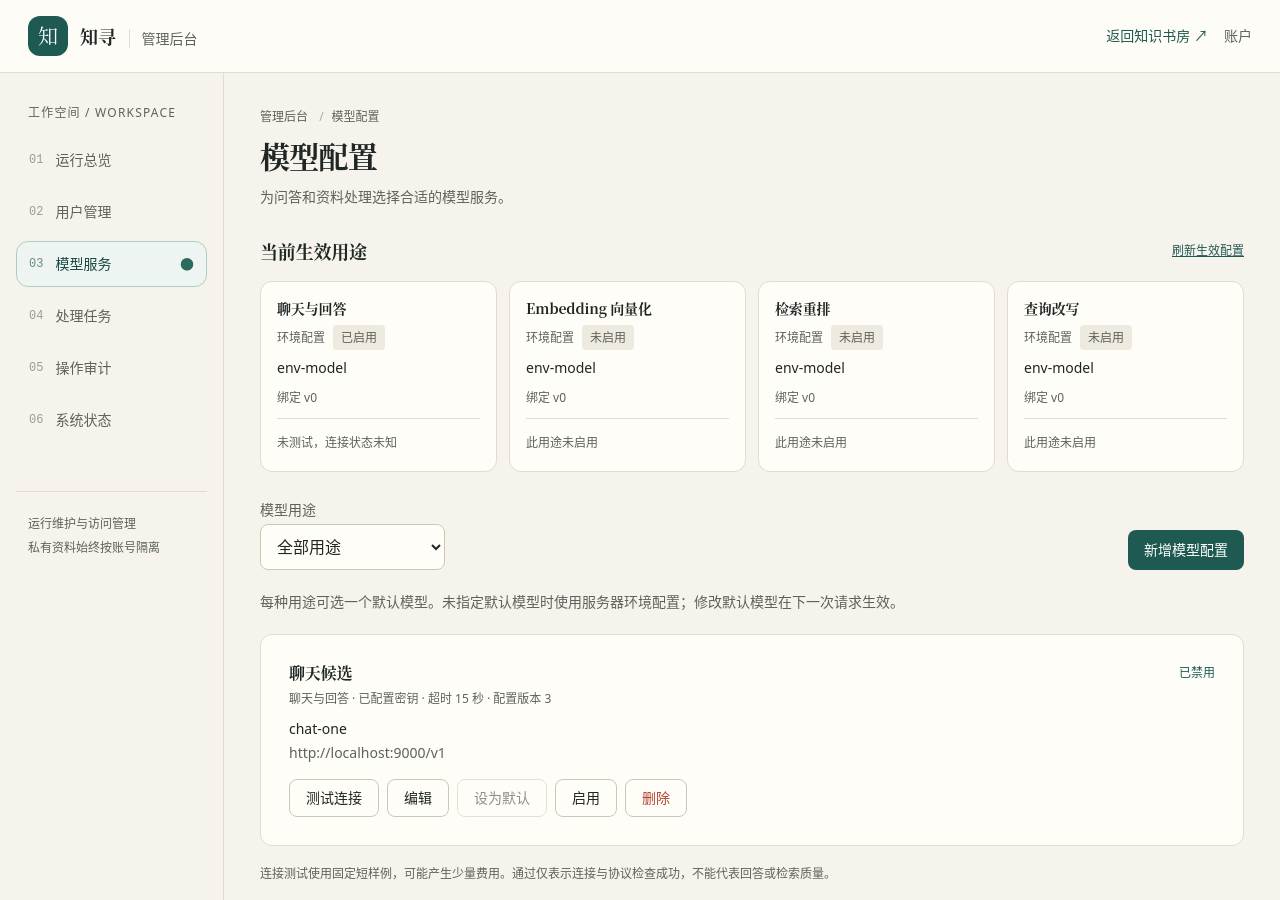
Test: 测试结果过期与版本冲突
Click the button with test id "admin-model-test" at (334, 798), box [289,779,379,817]
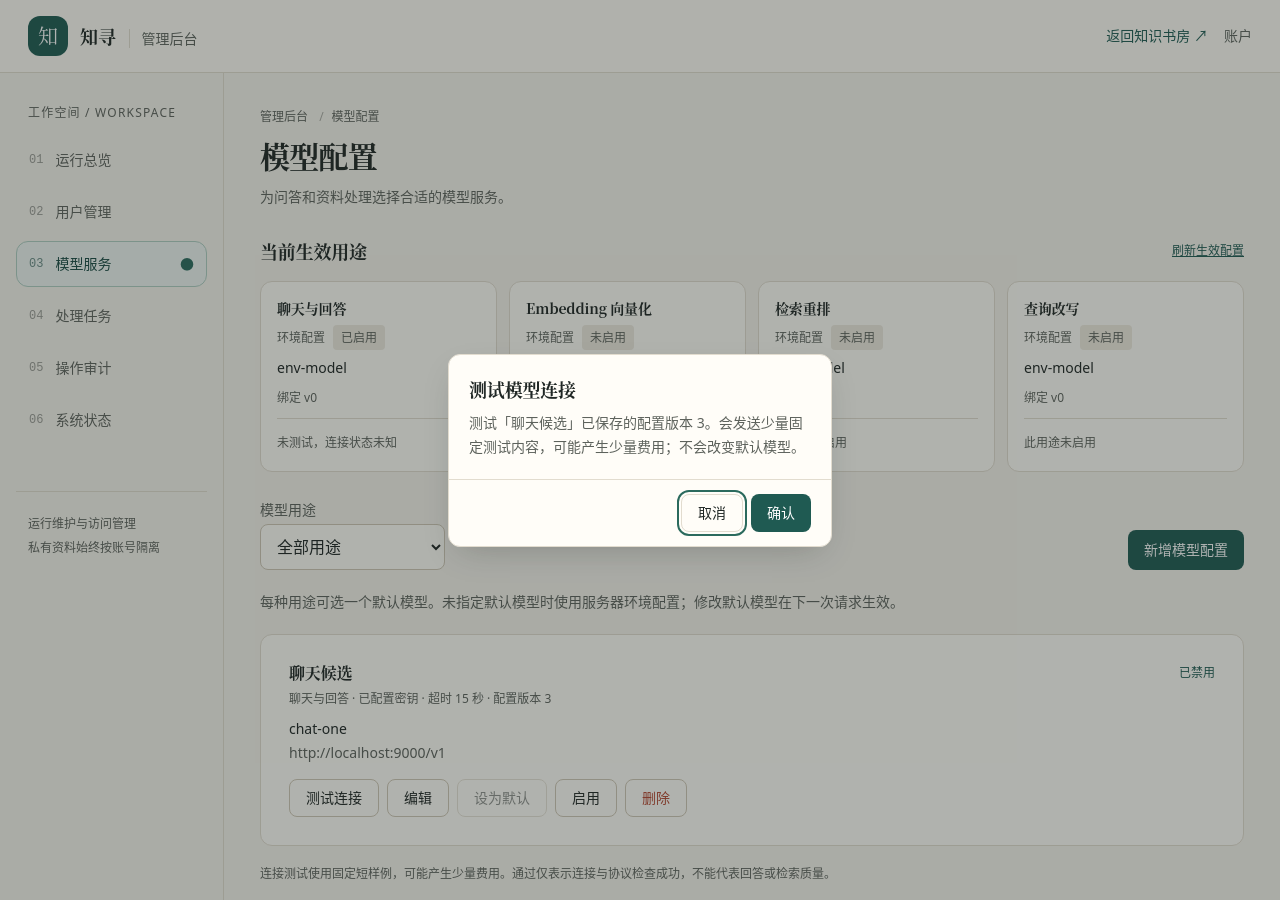
Click the button with test id "confirm-dialog-confirm-btn" at (781, 512), box [751,494,811,532]
(page scrolled)
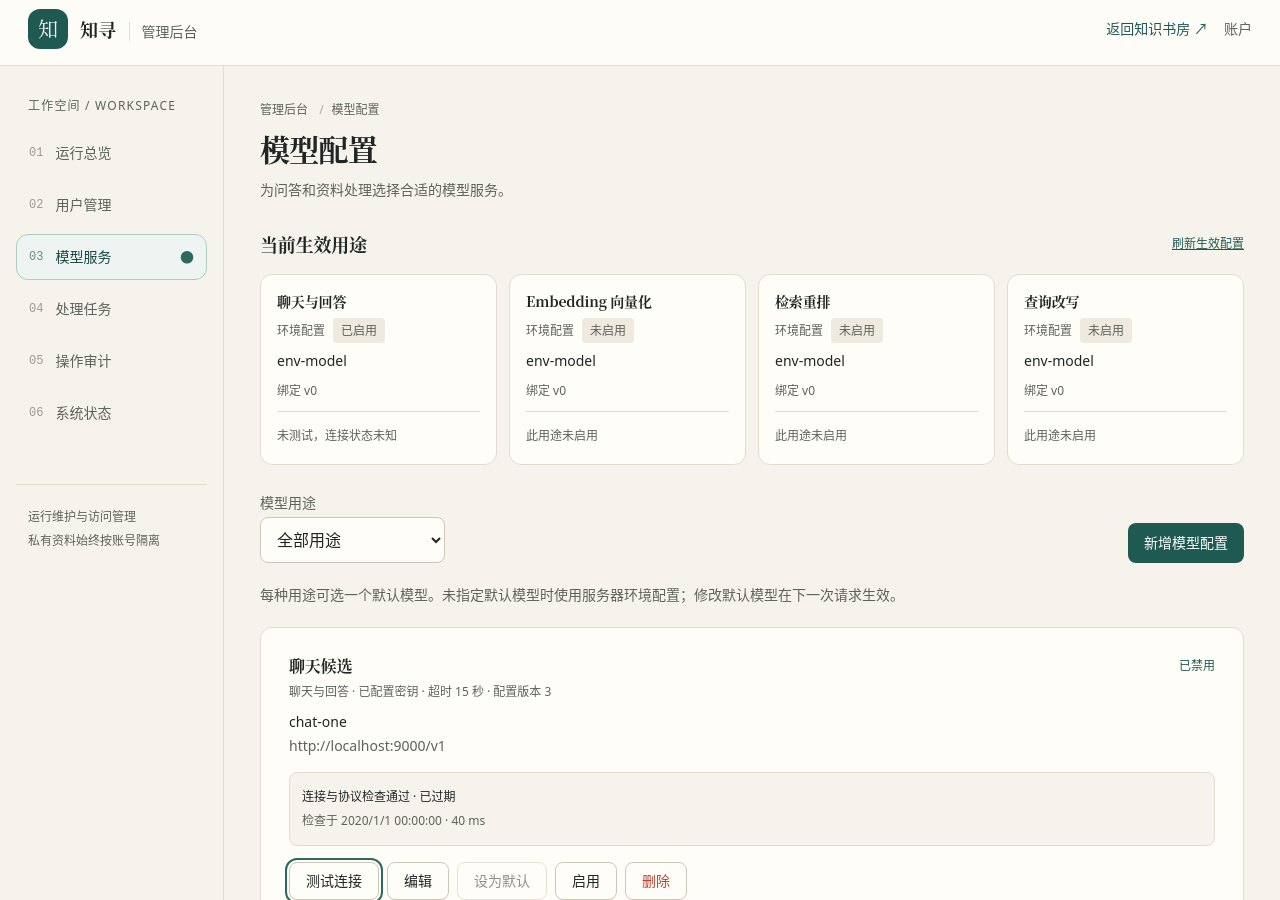
Expected: the text "已过期" is shown, [302,788,456,805]
Click the button with test id "admin-model-test" at (334, 881), box [289,862,379,899]
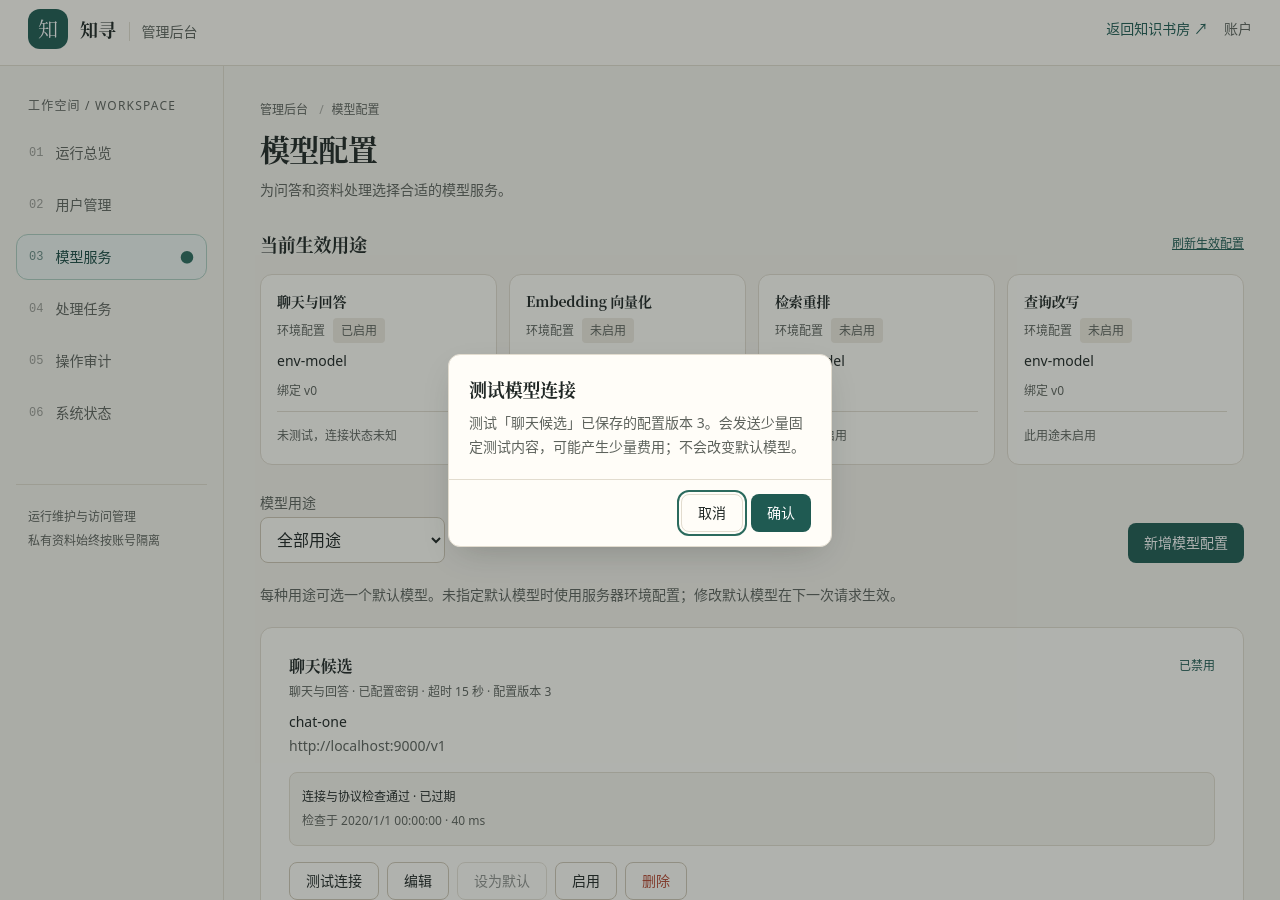
Click the button with test id "confirm-dialog-confirm-btn" at (781, 512), box [751,494,811,532]
(page scrolled)
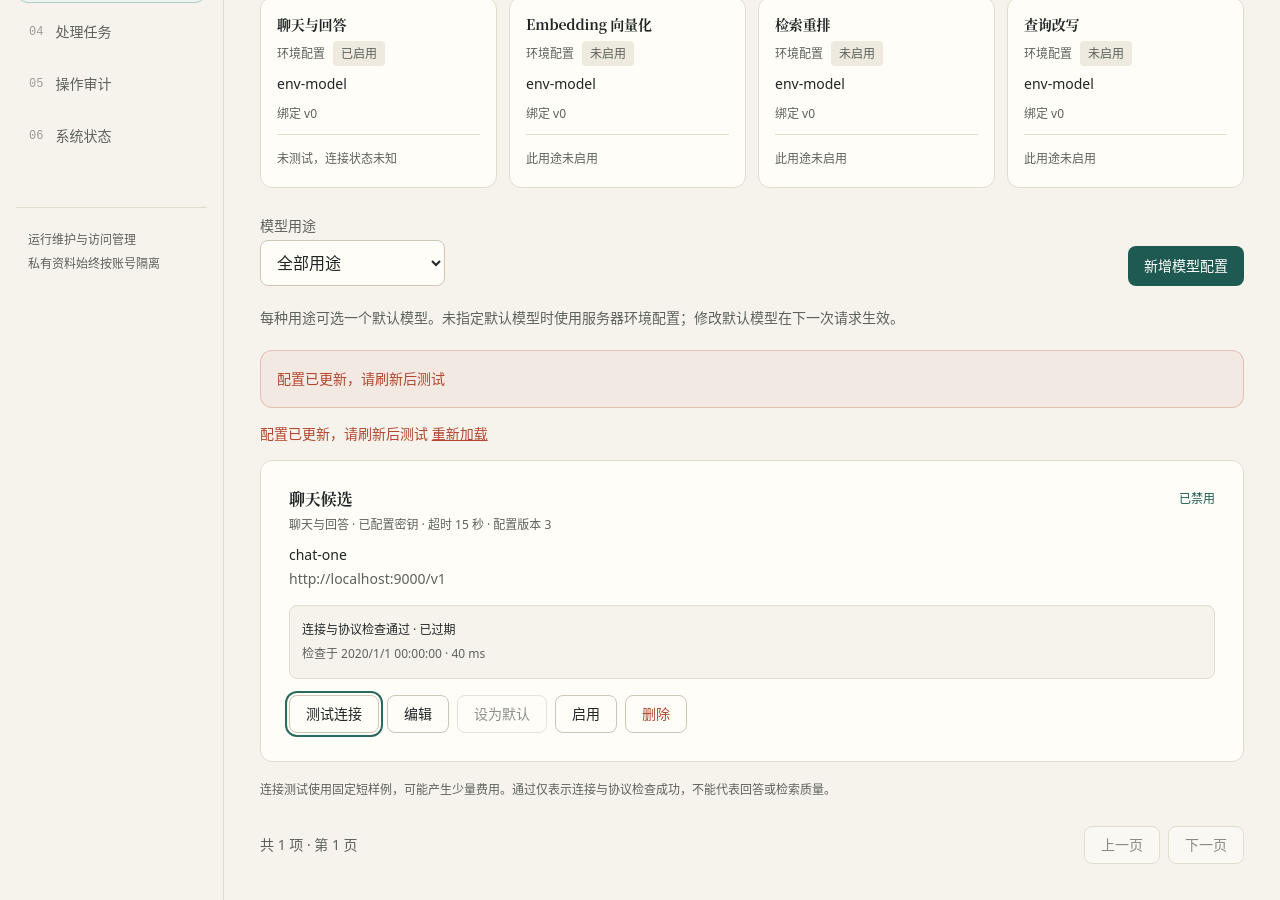
Expected: the text "聊天候选" is shown, [289,489,352,509]
Expected: the text "配置已更新" is shown, [277,369,445,388]
